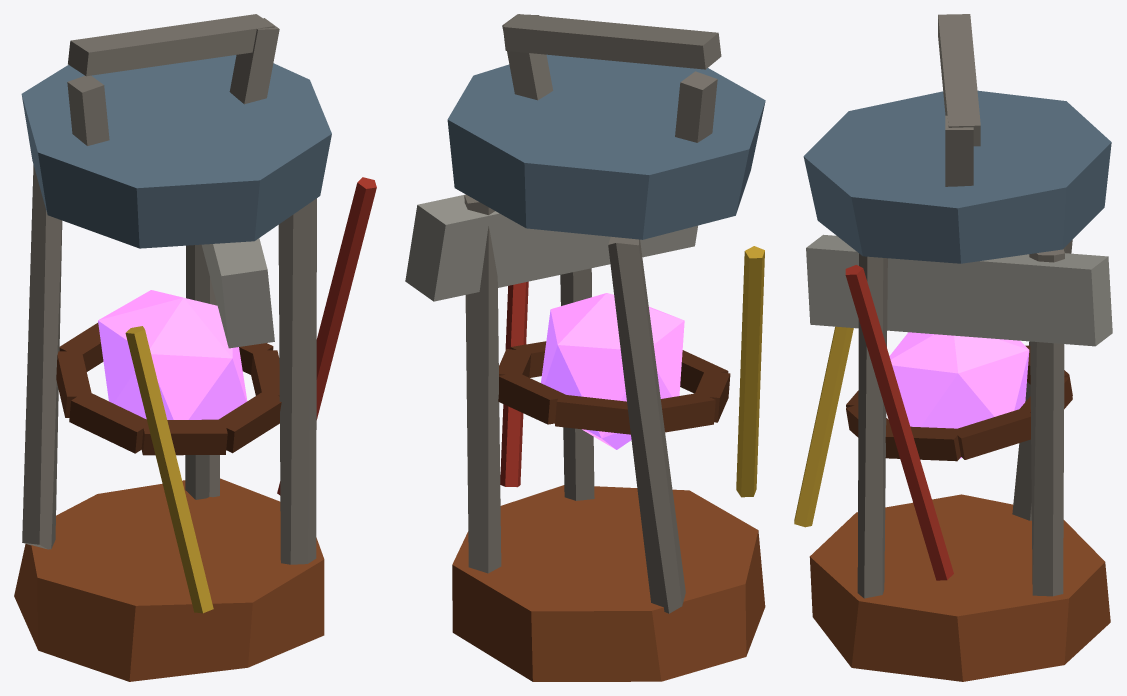
The model's file is antimatter_scrap.glb.
3 views of the same model, side by side, from view 1: azimuth 30°, elevation 25°; view 2: azimuth 150°, elevation 25°; view 3: azimuth 270°, elevation 25° (orthographic). The views are drawn at different scales.
Visible parts, largest first — view 1: antimatter_scrap; view 2: antimatter_scrap; view 3: antimatter_scrap.
Part boxes in pixels (left/top/right/bottom): antimatter_scrap: left=14, top=14, right=376, bottom=681; antimatter_scrap: left=405, top=14, right=765, bottom=681; antimatter_scrap: left=794, top=14, right=1112, bottom=681.
Size of the model in its own units: 0.1541 by 0.31 by 0.158.
